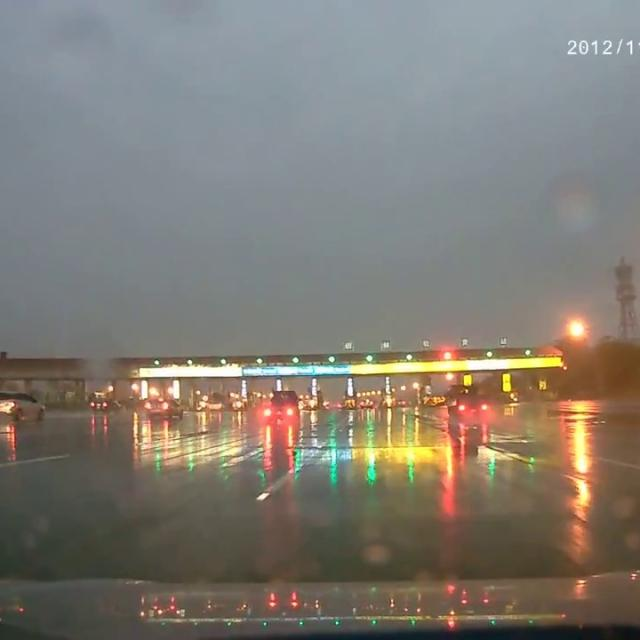Car: (0, 392, 50, 427), (144, 398, 184, 417), (87, 395, 126, 410), (205, 400, 223, 410), (357, 399, 372, 408)
